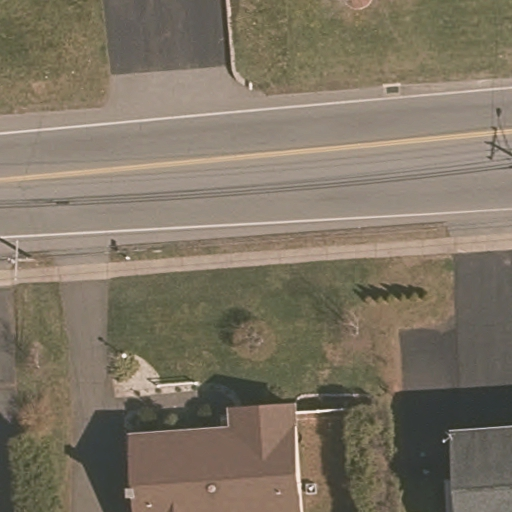DT: (3, 237, 48, 288)
